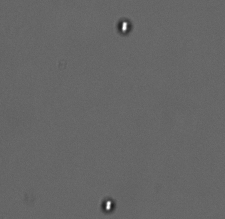Living Cell: (114, 17, 133, 35), (97, 197, 118, 213)
